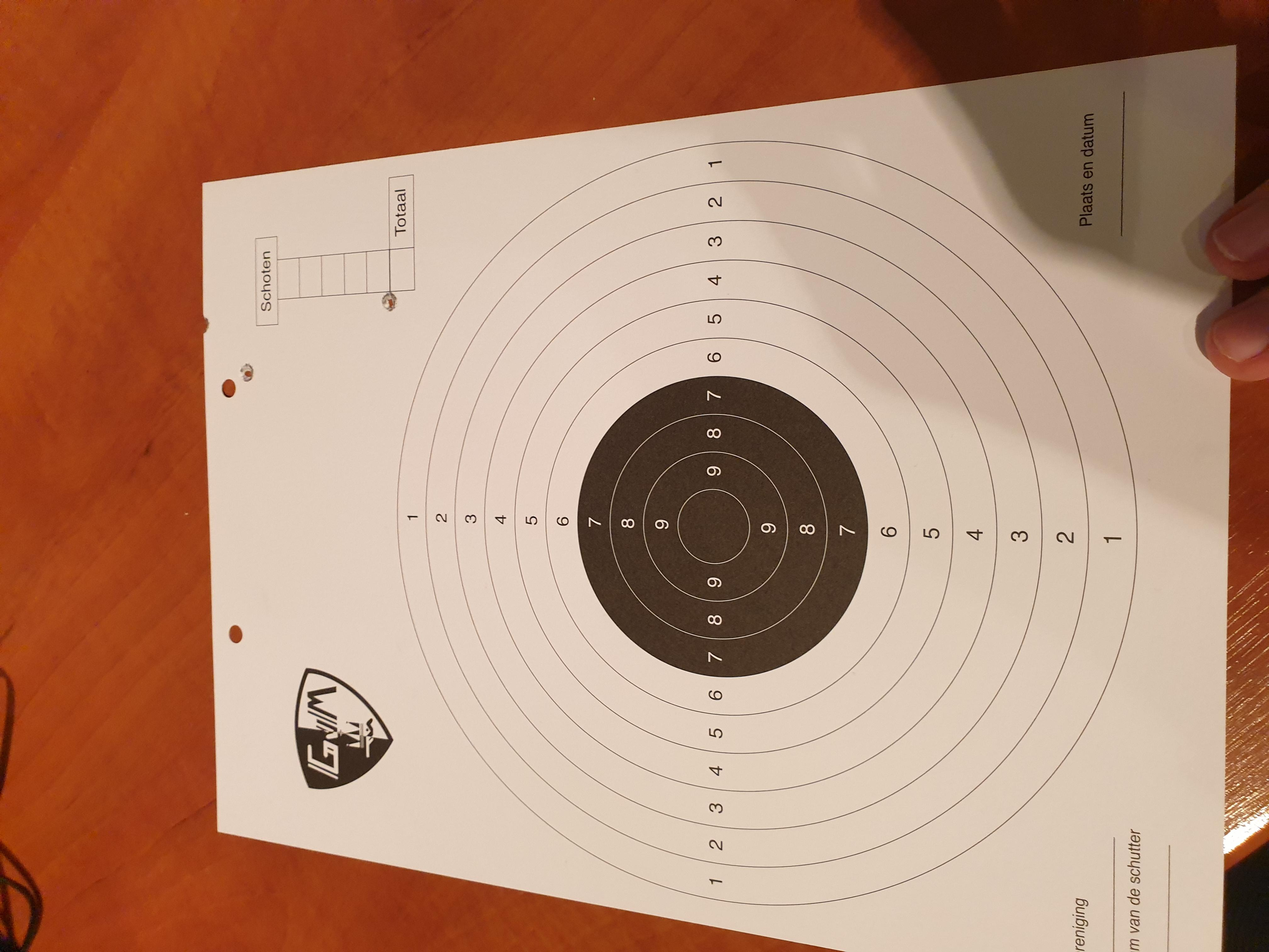hole: (852, 284, 879, 300), (759, 179, 787, 191), (824, 153, 848, 157)
